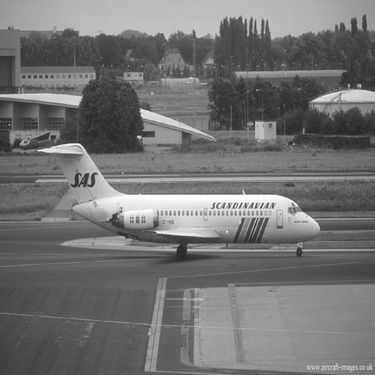airplane: (17, 129, 337, 271)
